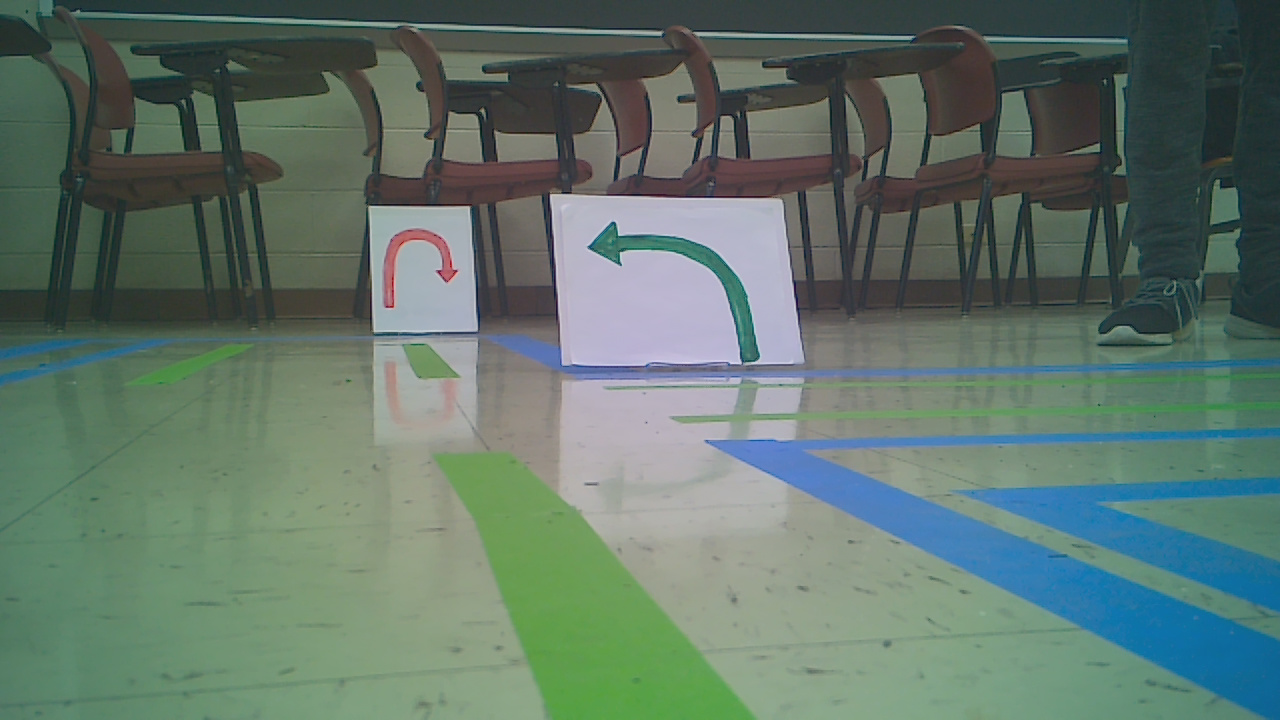greenline: (424, 454, 751, 718)
left: (583, 223, 767, 366)
uturn: (379, 218, 459, 308)
